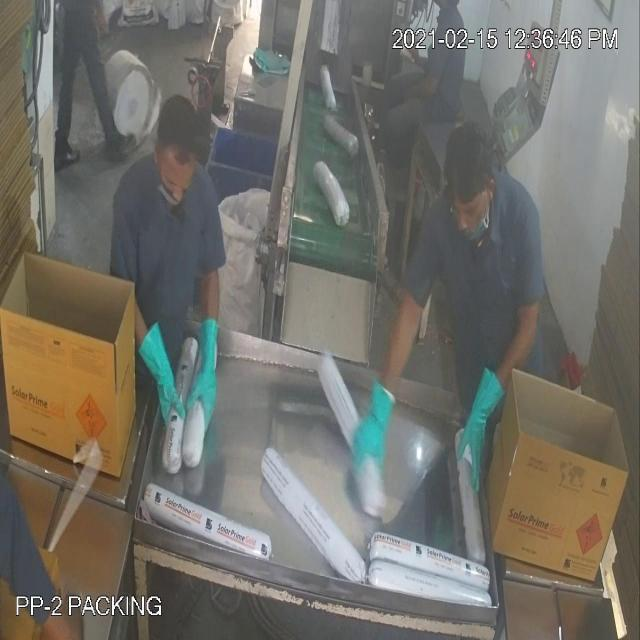Gloves: (42, 116, 484, 436)
